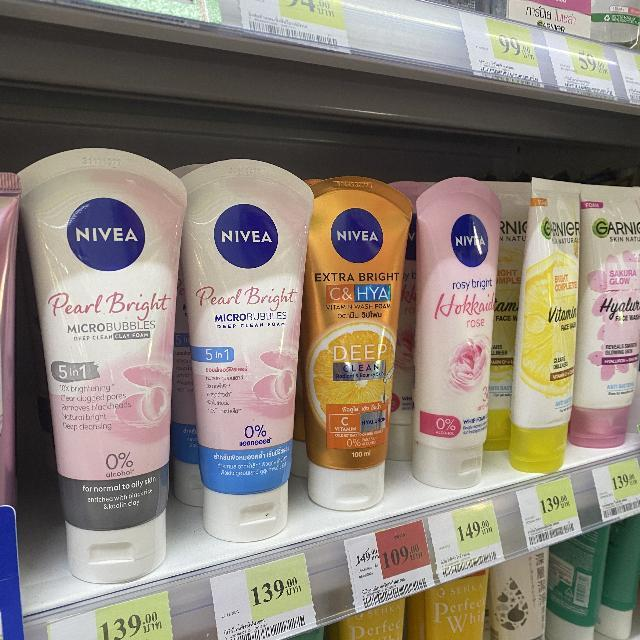Squeeze Tube: (3, 112, 640, 526)
